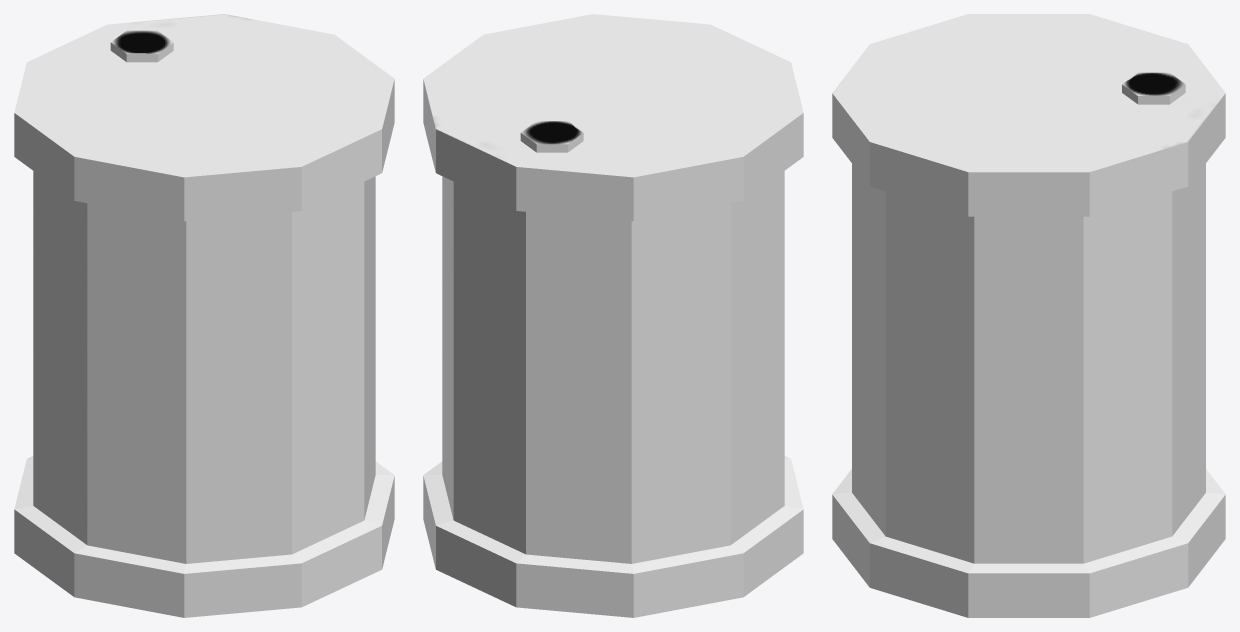
The model's file is barrel.fbx.
3 views of the same model, side by side, from view 1: azimuth 30°, elevation 25°; view 2: azimuth 150°, elevation 25°; view 3: azimuth 270°, elevation 25° (orthographic).
Visible parts, largest first — view 1: Cylinder; view 2: Cylinder; view 3: Cylinder.
Boxes of the visible parts, box(x1,y1,x2,y2) form: Cylinder: box(14, 14, 394, 617); Cylinder: box(423, 14, 803, 617); Cylinder: box(832, 14, 1225, 617).
Bounding box in the file's own units: 76.08 × 102 × 80.
Materials: 1 (1 with a texture image).
